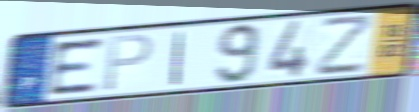4: (267, 18, 311, 80)
9: (214, 21, 262, 87)
E: (48, 36, 105, 98)
I: (169, 30, 187, 87)
P: (101, 32, 155, 94)
Z: (315, 12, 375, 78)
